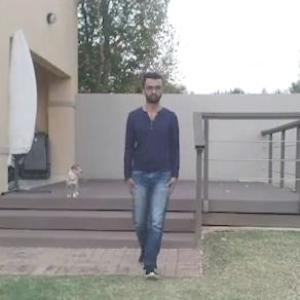follow: (121, 68, 181, 290)
